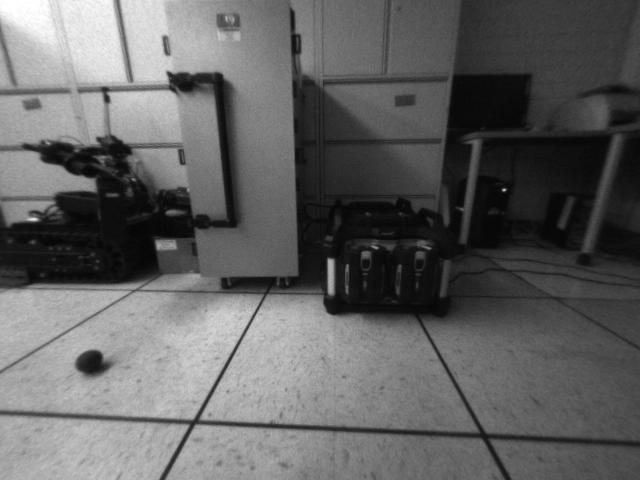dogtoy: (70, 342, 113, 377)
